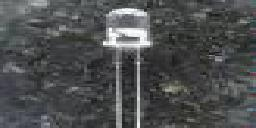LED: (102, 6, 157, 127)
